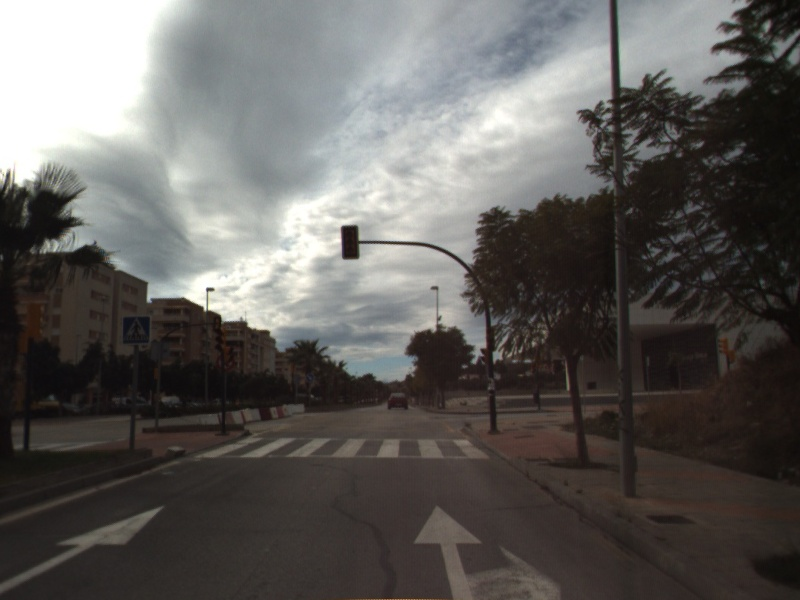STRAIGHT: (1, 504, 166, 595)
STRAIGHT_RIGHT: (410, 503, 564, 600)
